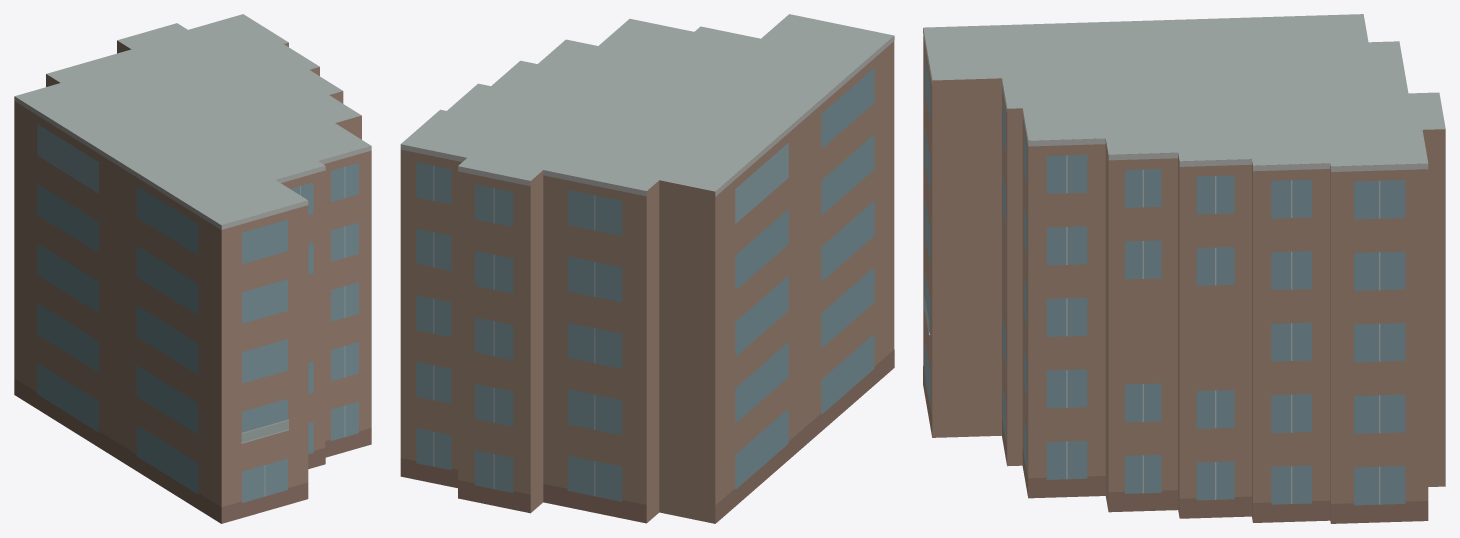
Rendered from survey-upis-32940935.glb.
3 renders of one model, left to right at view 1: azimuth 30°, elevation 25°; view 2: azimuth 150°, elevation 25°; view 3: azimuth 270°, elevation 25°, orthographic. The views are drawn at different scales.
Visible parts, largest first — view 1: survey-upis-32940935.tmp; view 2: survey-upis-32940935.tmp; view 3: survey-upis-32940935.tmp.
Boxes of the visible parts, x1=… form: survey-upis-32940935.tmp: x1=14, y1=14, x2=371, y2=523; survey-upis-32940935.tmp: x1=400, y1=14, x2=894, y2=523; survey-upis-32940935.tmp: x1=923, y1=14, x2=1445, y2=523.
Bounding box in the file's own units: 14 × 15.3 × 20.28.
